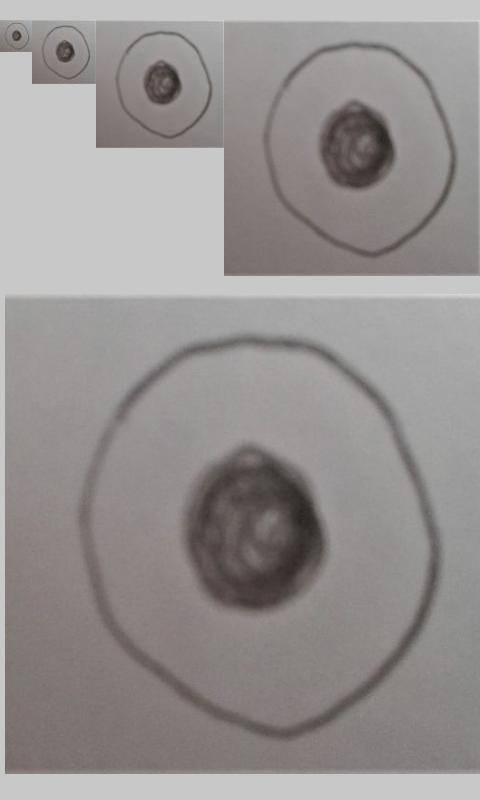radio_button: (75, 334, 442, 740), (262, 40, 458, 259), (115, 31, 214, 139), (41, 24, 91, 80), (3, 22, 30, 51)
